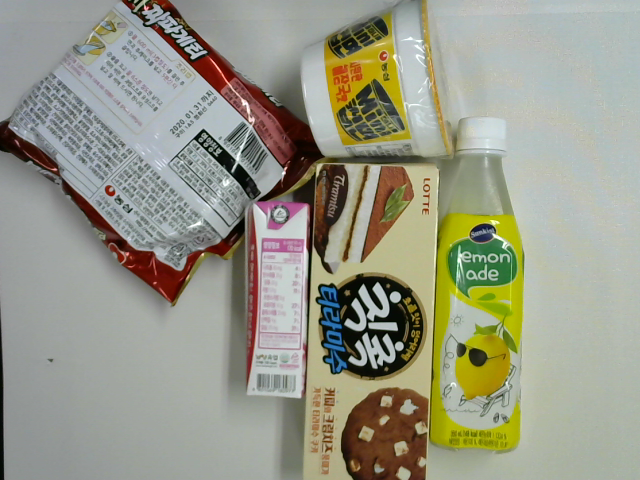Chicchok_Tiramisu: (299, 156, 440, 480)
Hejangmini: (298, 1, 461, 168)
Sichuan_Chapaghetti: (1, 8, 325, 315)
Strawberry_E_Mong: (240, 197, 314, 402)
Sunkist_Lemonaid_Pet: (427, 111, 524, 456)
